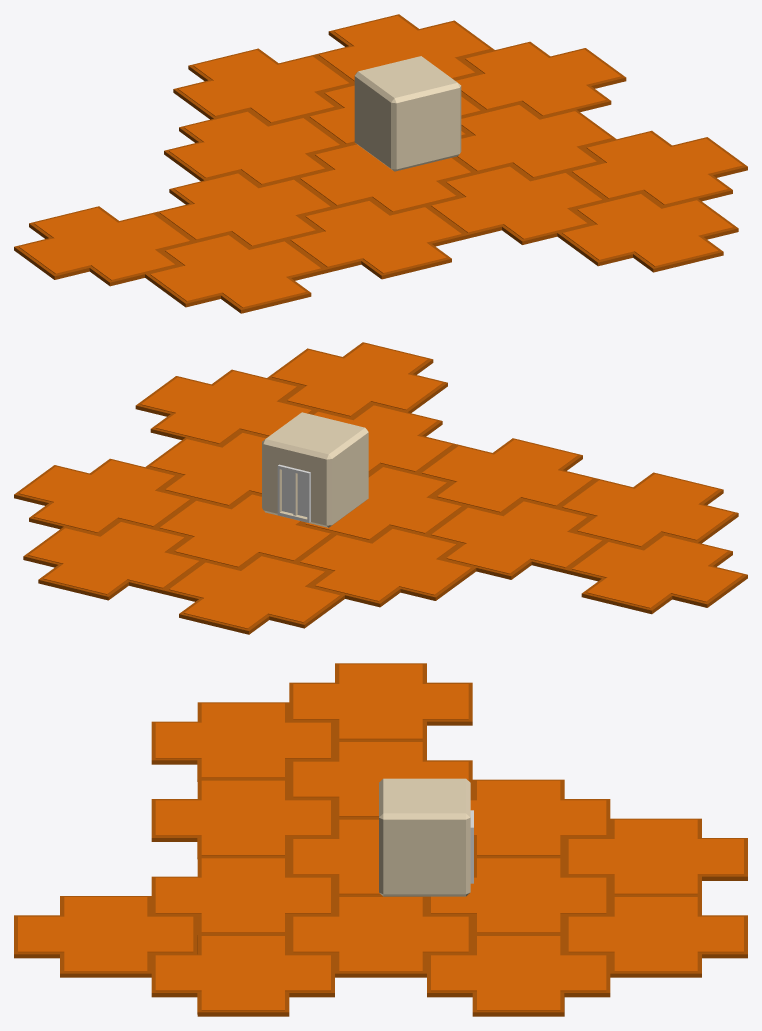
The model's file is house.gltf.
3 renders of one model, top to bottom at view 1: azimuth 30°, elevation 25°; view 2: azimuth 150°, elevation 25°; view 3: azimuth 270°, elevation 25°, orthographic. The views are drawn at different scales.
Parts seen in each view (by area): view 1: Cube008, Cube012, Cube007, Cube005, Cube010, Cube004, Cube006, Cube009, Cube013, Cube002, Cube011, Cube001 (+3 smaller); view 2: Cube008, Cube010, Cube013, Cube014, Cube009, Cube011, Cube002, Cube007, Cube012, Cube005, Cube006, Cube003 (+3 smaller); view 3: Cube002, Cube006, Cube014, Cube012, Cube001, Cube008, Cube007, Cube005, Cube010, Cube013, Cube004, Cube003 (+3 smaller).
Boxes of the visible parts, box(x1,y1,x2,y2) form: Cube008: box(354, 56, 461, 171); Cube012: box(557, 192, 738, 272); Cube007: box(145, 233, 326, 313); Cube005: box(286, 199, 466, 279); Cube010: box(14, 206, 194, 286); Cube004: box(426, 165, 606, 244); Cube006: box(567, 130, 747, 206); Cube009: box(164, 110, 344, 186); Cube013: box(173, 48, 353, 124); Cube002: box(454, 41, 626, 117); Cube011: box(155, 172, 335, 248); Cube001: box(454, 103, 616, 179); Cube008: box(262, 412, 368, 527); Cube010: box(567, 534, 747, 614); Cube013: box(164, 554, 344, 634); Cube014: box(23, 520, 203, 600); Cube009: box(295, 527, 476, 607); Cube011: box(426, 500, 606, 579); Cube002: box(14, 458, 194, 534); Cube007: box(557, 472, 738, 548); Cube012: box(267, 342, 447, 418); Cube005: box(417, 438, 597, 514); Cube006: box(135, 369, 316, 445); Cube003: box(155, 493, 335, 569); Cube002: box(427, 935, 610, 1016); Cube006: box(151, 935, 334, 1016); Cube014: box(564, 896, 747, 977); Cube012: box(14, 896, 197, 977); Cube001: box(289, 896, 472, 977); Cube008: box(379, 778, 473, 896); Cube007: box(151, 702, 334, 781); Cube005: box(151, 779, 334, 858); Cube010: box(289, 663, 472, 740); Cube013: box(564, 818, 747, 895); Cube004: box(151, 857, 334, 936); Cube003: box(427, 857, 610, 934).
Size of the model in its own units: 180000 by 21395 by 160000.
